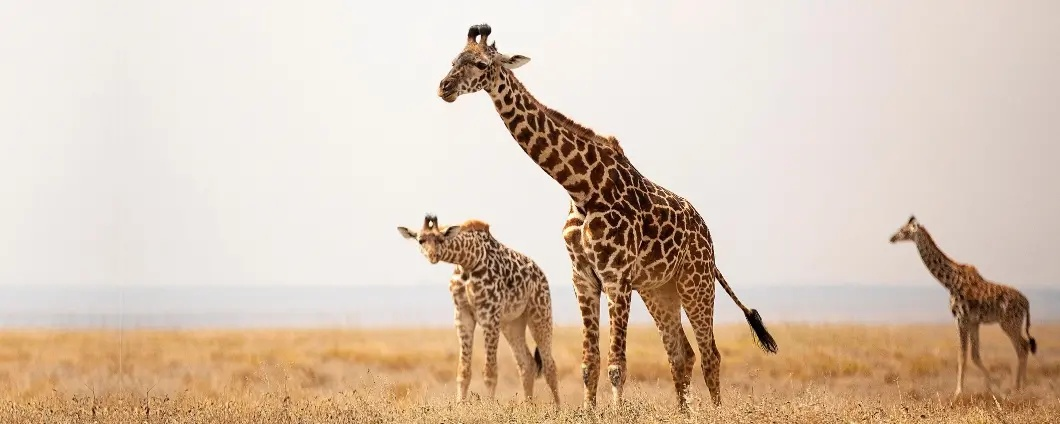giraffe: (433, 20, 789, 419), (393, 207, 567, 419), (887, 211, 1042, 404)
